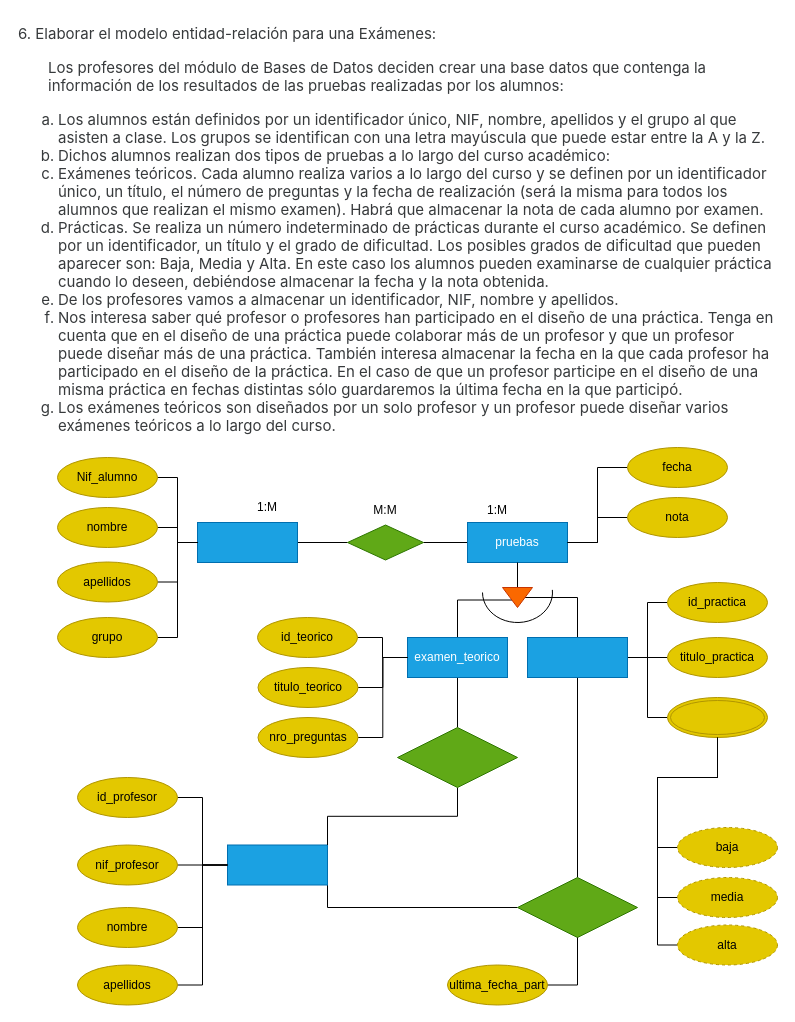
Some shapes in this 795 by 1022 pixel diagram are drawn without their labels. The centre of each missing label's shape, as x and y in pixels:
"alumnos" goes at pixel 247 542.
"dificultad" goes at pixel 717 717.
"diseña" goes at pixel 457 757.
"participa" goes at pixel 577 907.
"practicas" goes at pixel 577 657.
"profesor" goes at pixel 277 864.
"realizan" goes at pixel 385 542.
